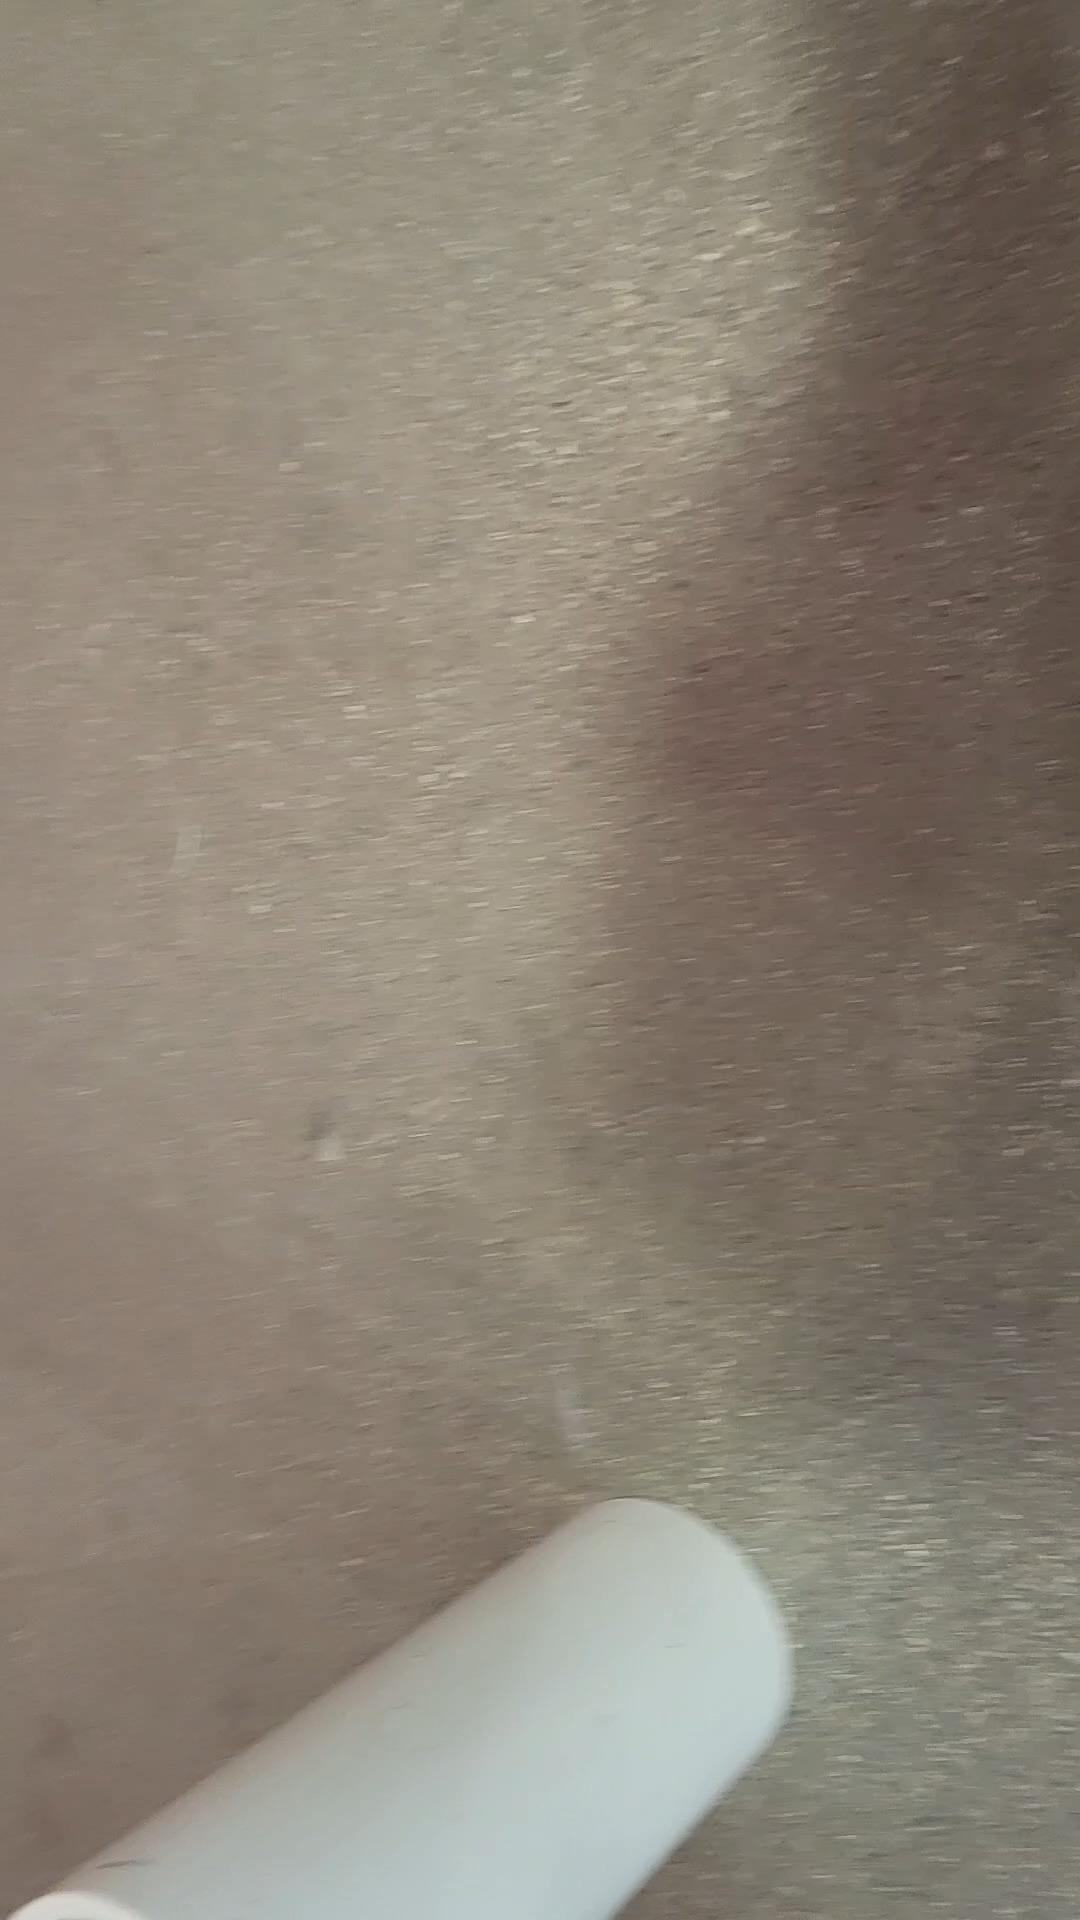coral: (0, 1493, 810, 1920)
